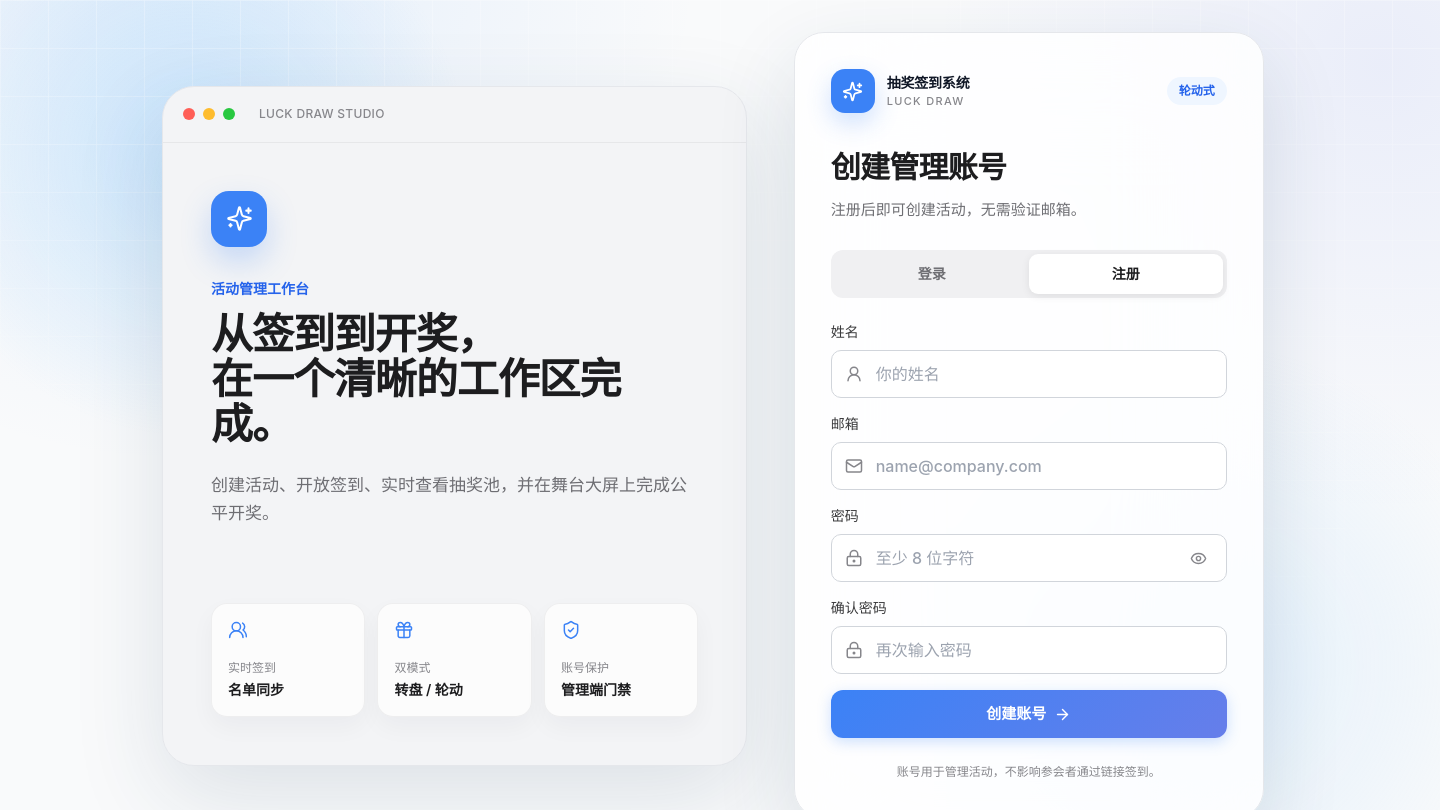
LoginPage › validates password confirmation before registration
Step 1. Type "王小明" into the field labelled "姓名" → (1029, 374), box [831, 350, 1227, 398]
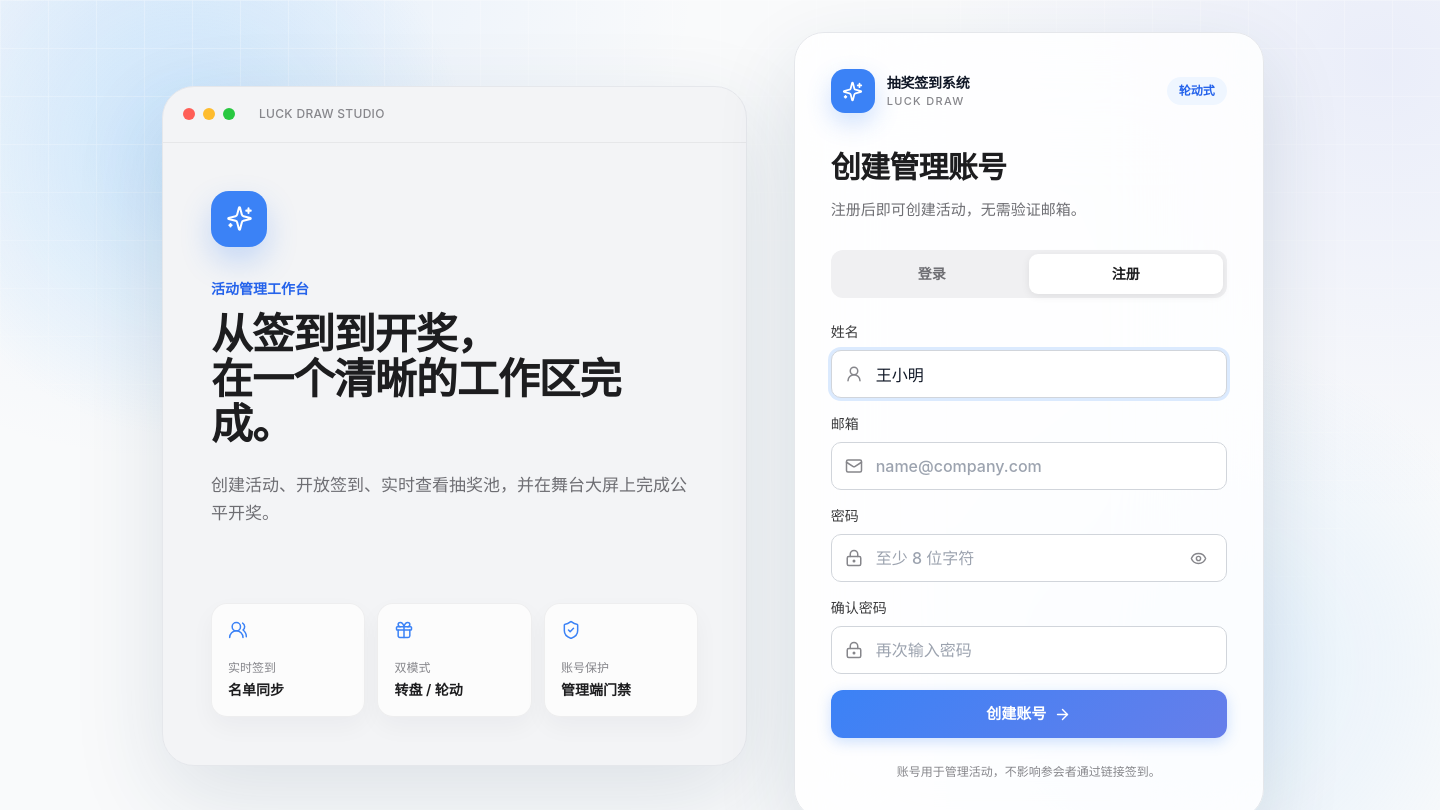
Step 2. Type "admin@example.com" into the field labelled "邮箱" → (1029, 466), box [831, 442, 1227, 490]
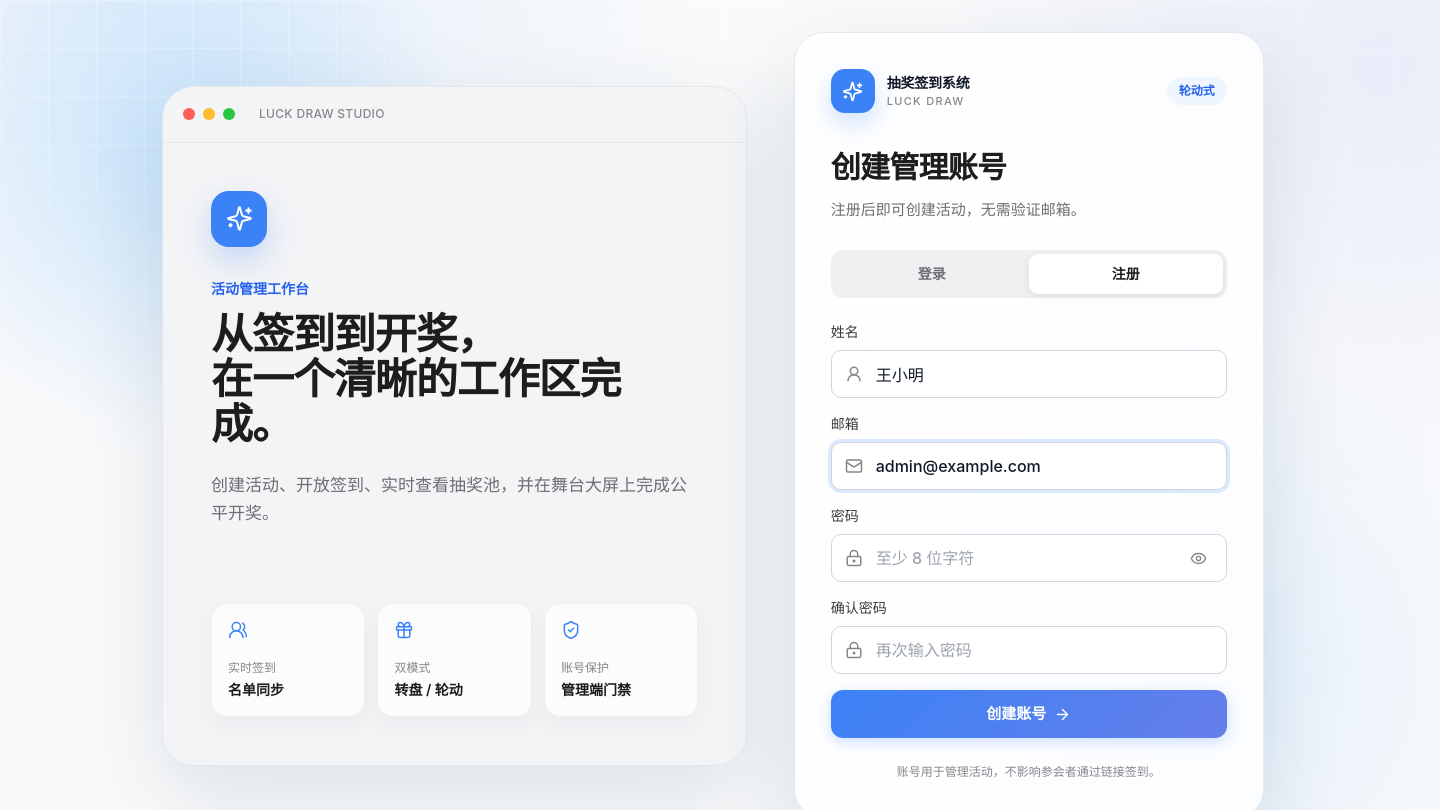
Step 3. Type "Password123" into the password field labelled "密码" → (1029, 558), box [831, 534, 1227, 582]
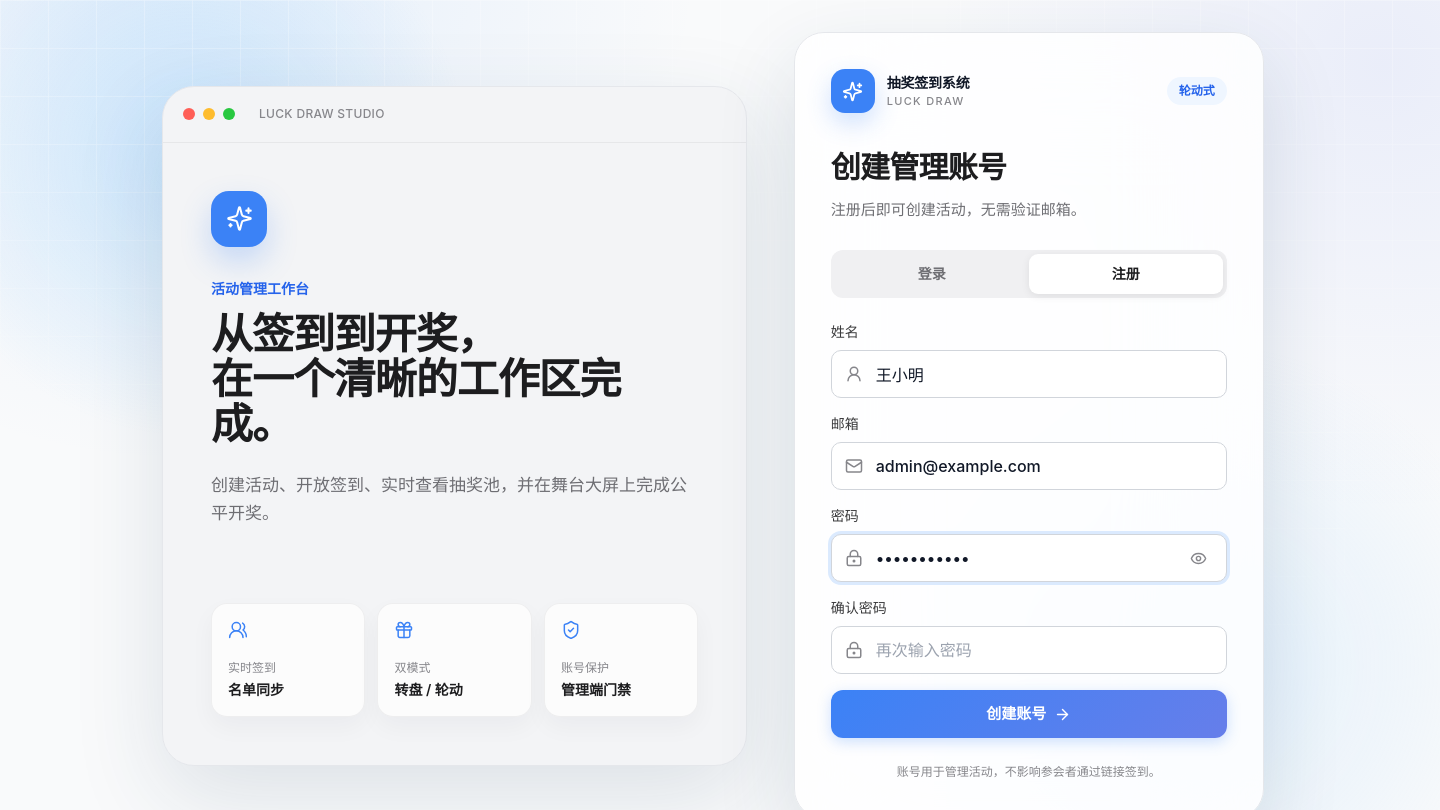
Step 4. Type "Password456" into the password field labelled "确认密码" → (1029, 650), box [831, 626, 1227, 674]
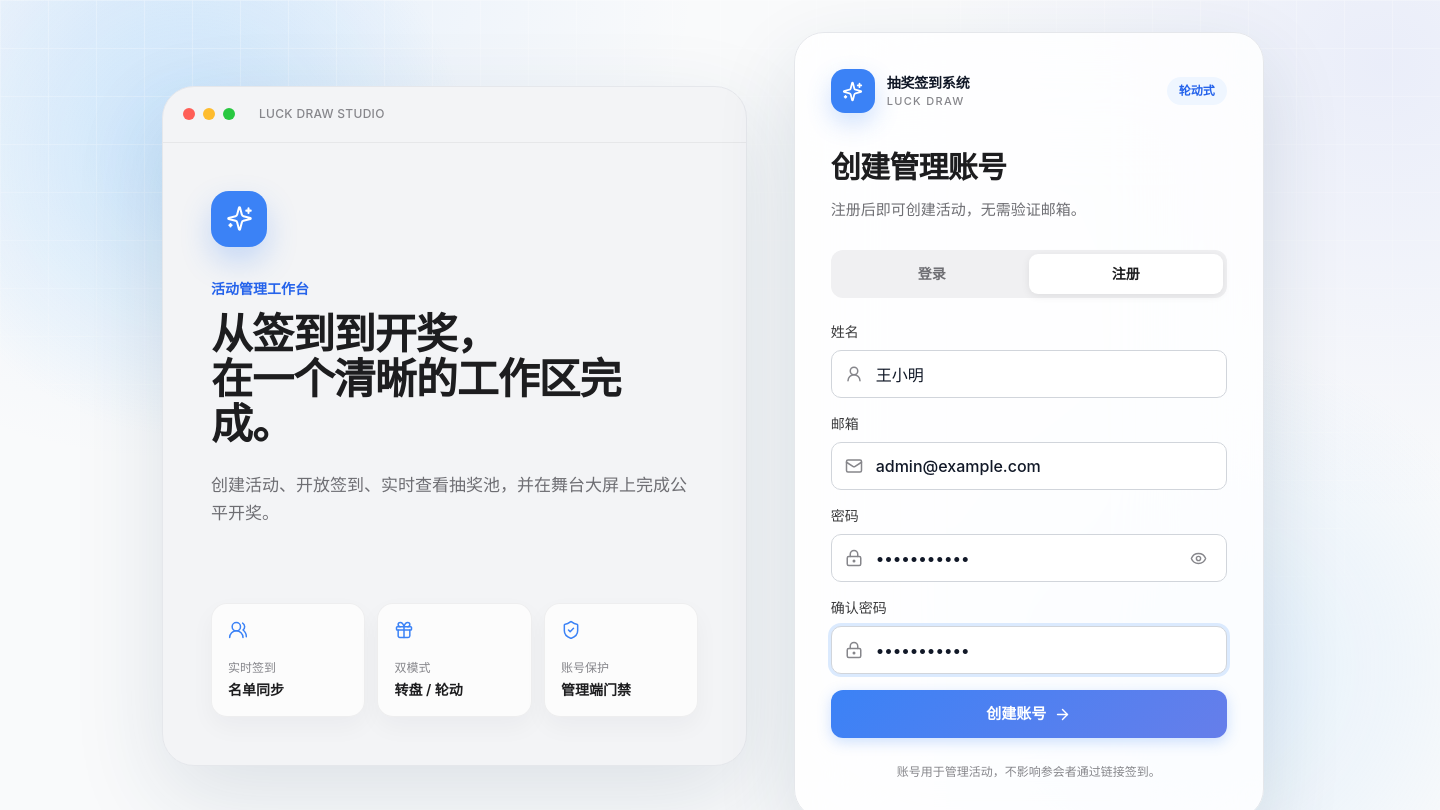
Step 5. Click the button "创建账号" → (1029, 714), box [831, 690, 1227, 738]
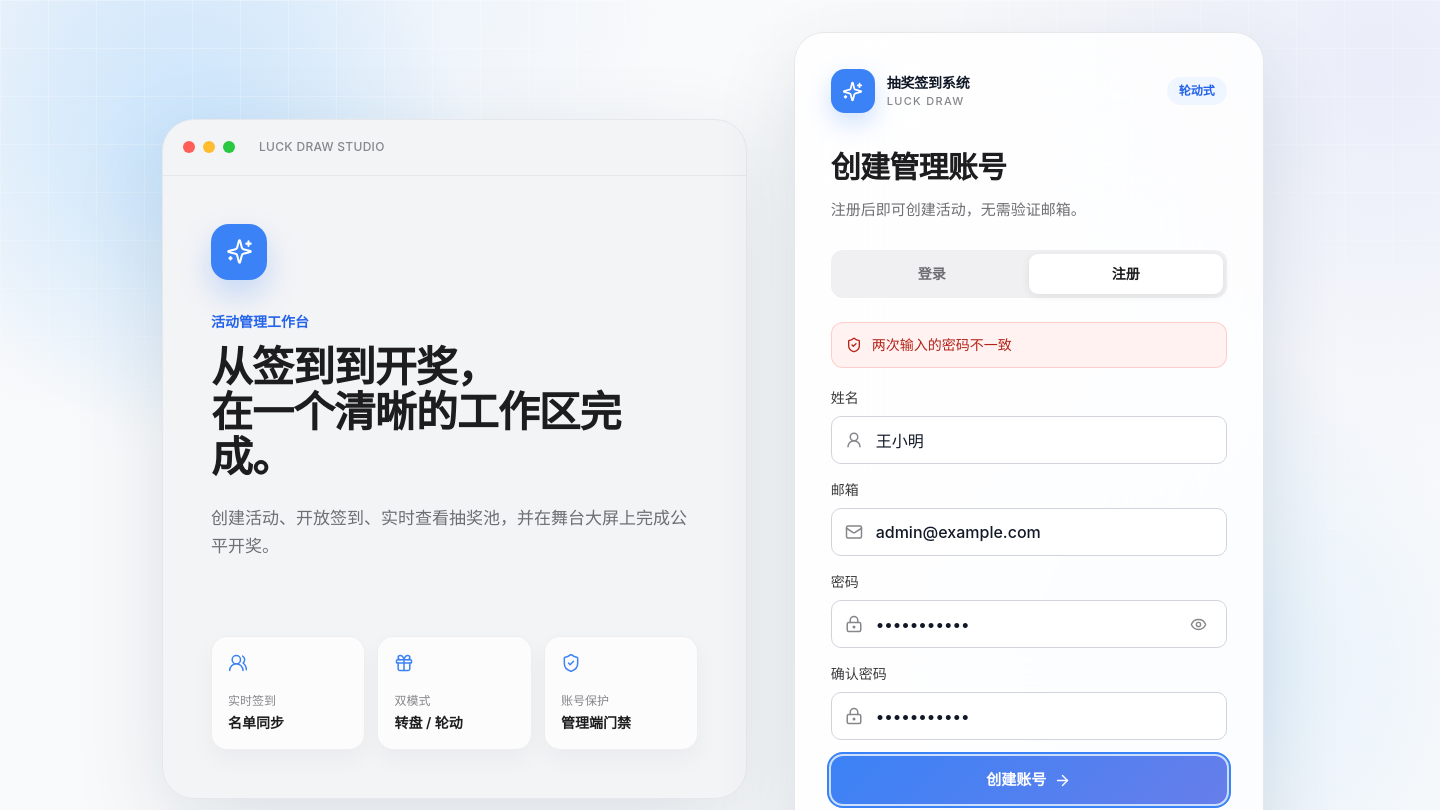
Expected: the text "两次输入的密码不一致" is shown, [872, 335, 1012, 355]
